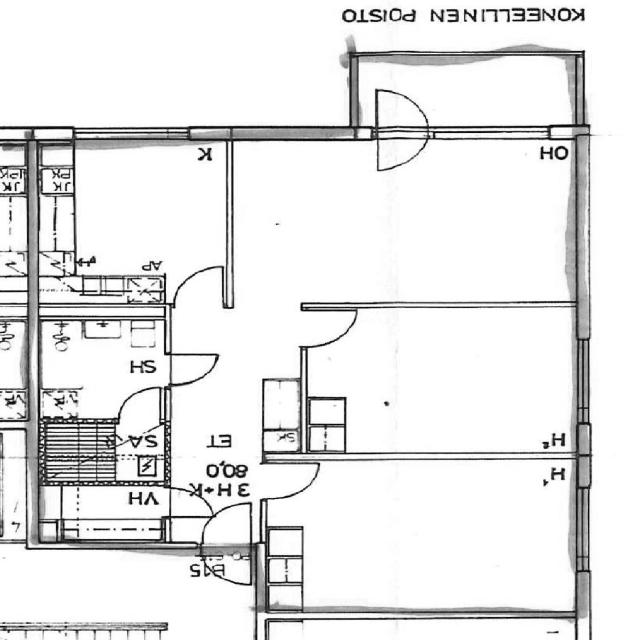door: (373, 88, 433, 174), (298, 302, 362, 350), (171, 262, 232, 312), (199, 503, 256, 546), (262, 460, 323, 500), (163, 349, 222, 388), (112, 384, 168, 423), (202, 549, 254, 586), (164, 484, 216, 520)
window: (564, 484, 601, 572), (565, 334, 601, 424), (68, 122, 197, 147), (432, 124, 556, 146), (570, 453, 596, 491)
zone: (284, 460, 578, 612), (300, 306, 578, 456), (376, 135, 584, 306), (23, 140, 234, 296), (226, 138, 394, 312), (37, 314, 169, 419), (39, 483, 173, 544), (35, 418, 148, 486), (396, 618, 577, 640), (1, 424, 28, 546), (0, 310, 29, 412), (264, 618, 398, 640), (0, 190, 29, 280), (0, 385, 29, 428), (88, 629, 160, 640)
